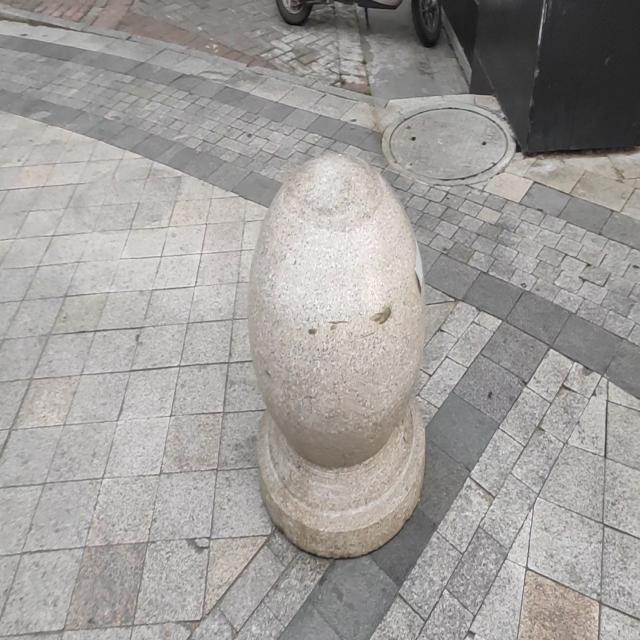spherical_roadblock: (235, 147, 436, 556)
